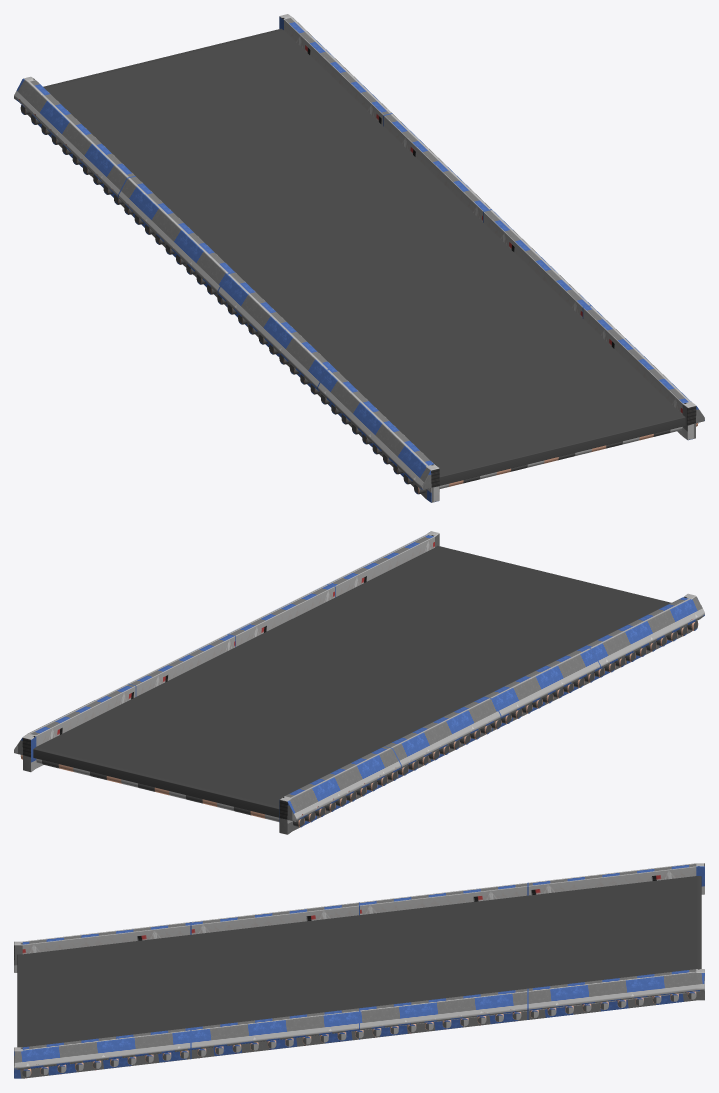
The model's file is ReactorBridge.fbx.
The picture shows the model from 3 angles, top to bottom: view 1: azimuth 30°, elevation 25°; view 2: azimuth 150°, elevation 25°; view 3: azimuth 270°, elevation 25°; orthographic projection. The views are drawn at different scales.
Parts seen in each view (by area): view 1: Bridge, Sides, BottomSupport; view 2: Bridge, Sides, BottomSupport; view 3: Bridge, Sides, BottomSupport.
Part boxes in pixels (x1,y1,x2,y2): Bridge: [43, 28, 685, 485]; Sides: [14, 14, 704, 502]; BottomSupport: [20, 105, 698, 494]; Bridge: [33, 545, 671, 817]; Sides: [14, 531, 704, 834]; BottomSupport: [20, 621, 698, 827]; Bridge: [17, 876, 701, 1047]; Sides: [14, 863, 704, 1078]; BottomSupport: [22, 991, 696, 1076].
Size of what is drawn, in the model's own units: 1600 by 680 by 4000.
